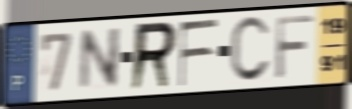7: (38, 30, 74, 94)
C: (228, 14, 273, 86)
F: (177, 17, 221, 90), (273, 13, 317, 82)
N: (76, 25, 123, 94)
R: (128, 19, 180, 94)
